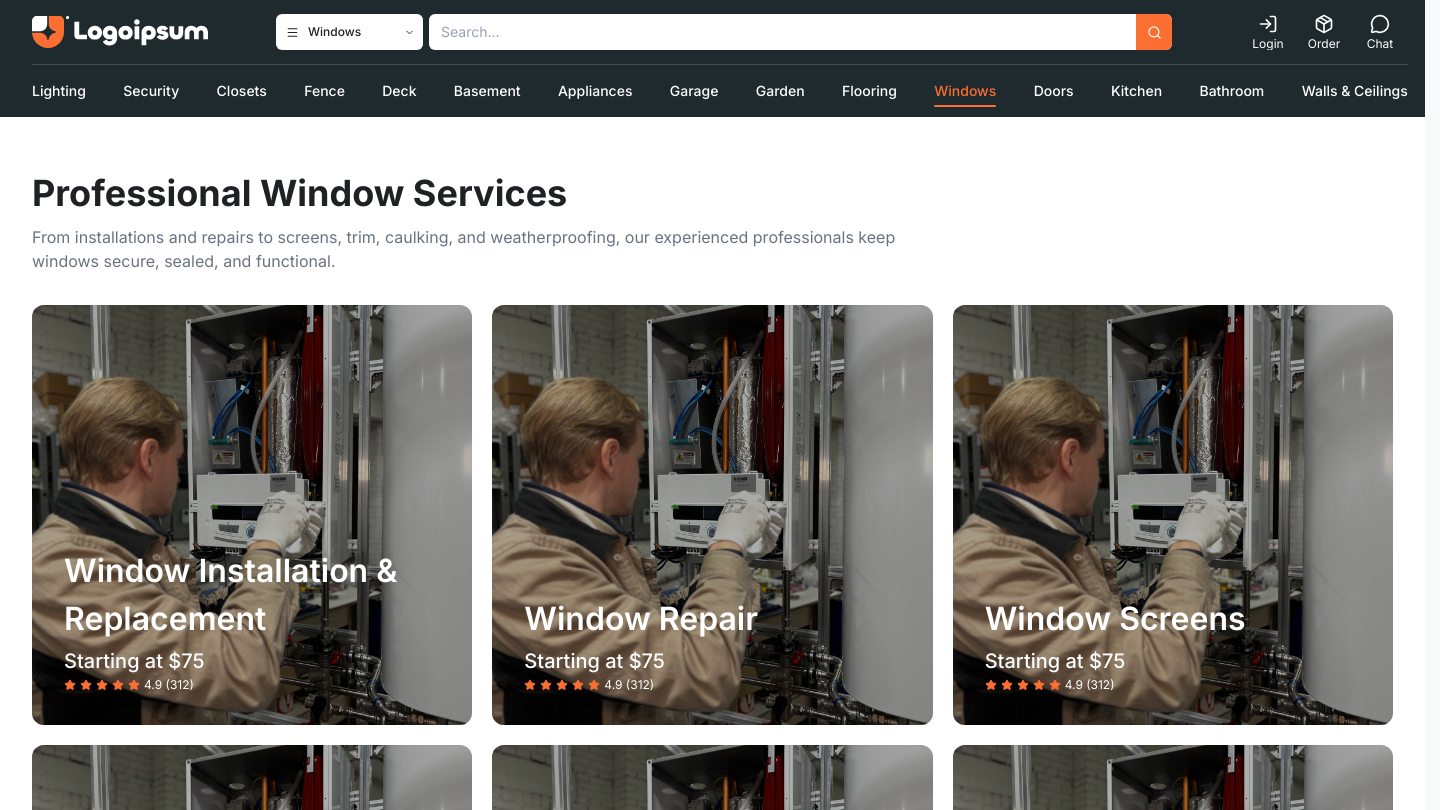
Test: Windows page › opens child services when a subcategory card is clicked
This screenshot has width=1440, height=810.
Click the button "Window Repair Starting at $75 4.9 (312)" at (712, 515), box [492, 305, 933, 725]
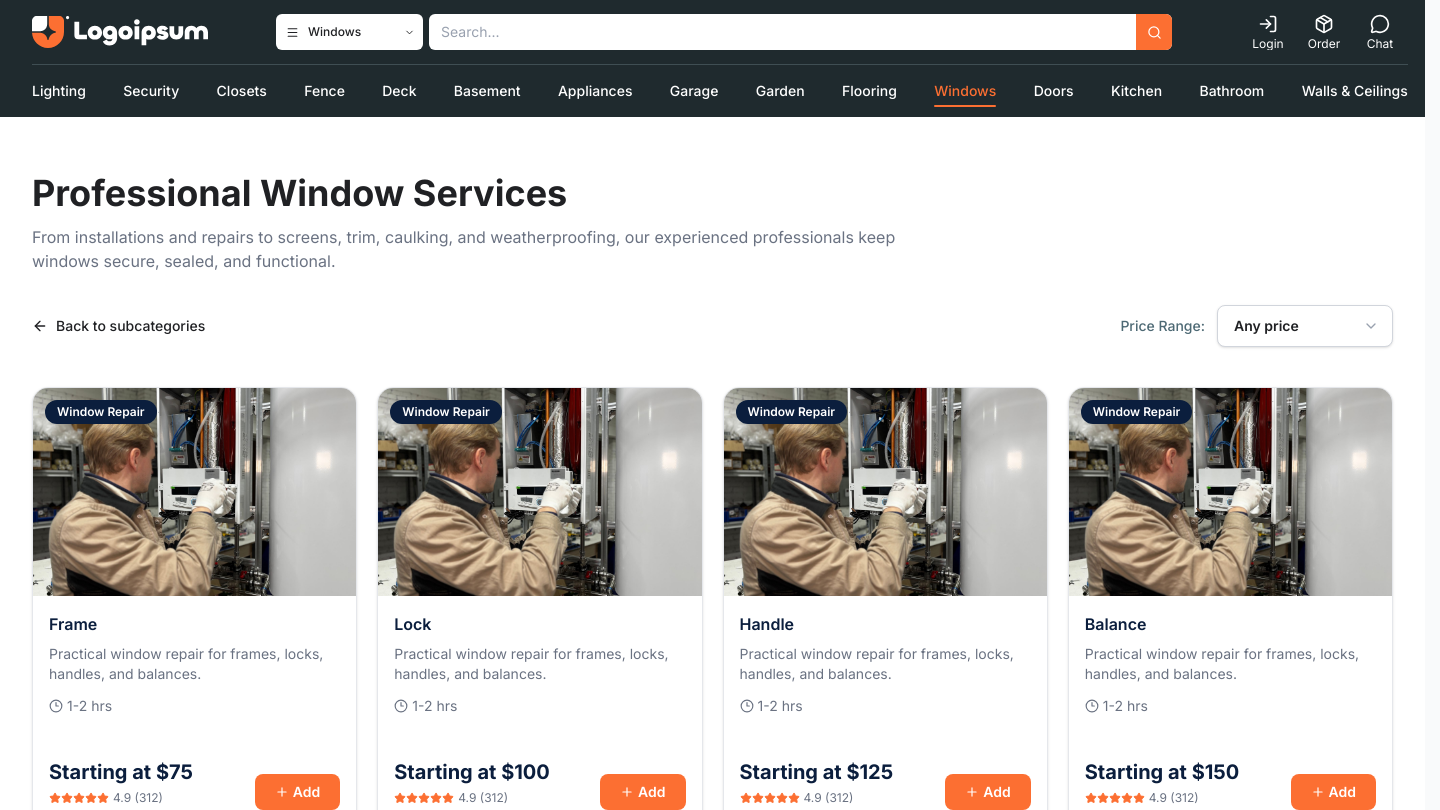
Now the heading "Balance" is shown, box [1085, 614, 1146, 634]
Now the button "Back to subcategories" is shown, box [32, 316, 205, 336]
